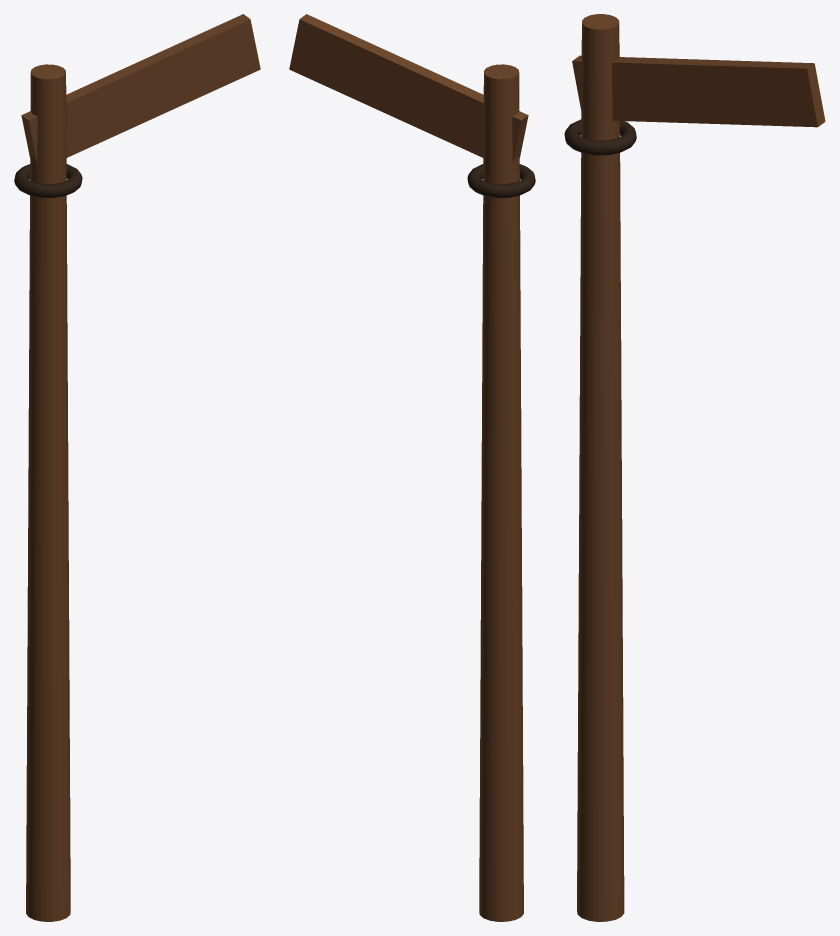
The model's file is wood_hoe.glb.
3 renders of one model, left to right at view 1: azimuth 30°, elevation 25°; view 2: azimuth 150°, elevation 25°; view 3: azimuth 330°, elevation 25°, orthographic. The views are drawn at different scales.
Parts seen in each view (by area): view 1: handle, blade, binding; view 2: handle, blade, binding; view 3: handle, blade, binding.
Boxes of the visible parts, <box> form: handle: <box>26,64,70,921</box>; blade: <box>21,14,260,163</box>; binding: <box>14,164,82,198</box>; handle: <box>479,64,523,921</box>; blade: <box>289,14,528,163</box>; binding: <box>467,164,535,198</box>; handle: <box>577,14,624,921</box>; blade: <box>572,55,825,127</box>; binding: <box>564,119,636,155</box>.
Size of the model in its own units: 0.2318 by 0.7864 by 0.058.
